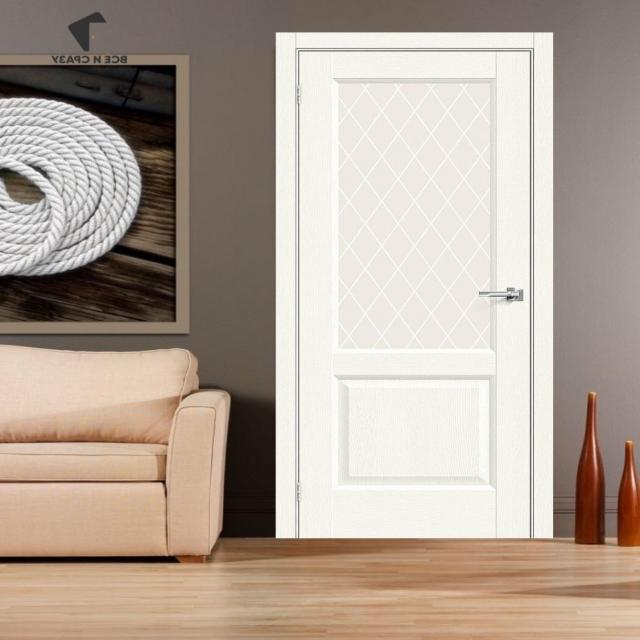close: (274, 38, 546, 534)
